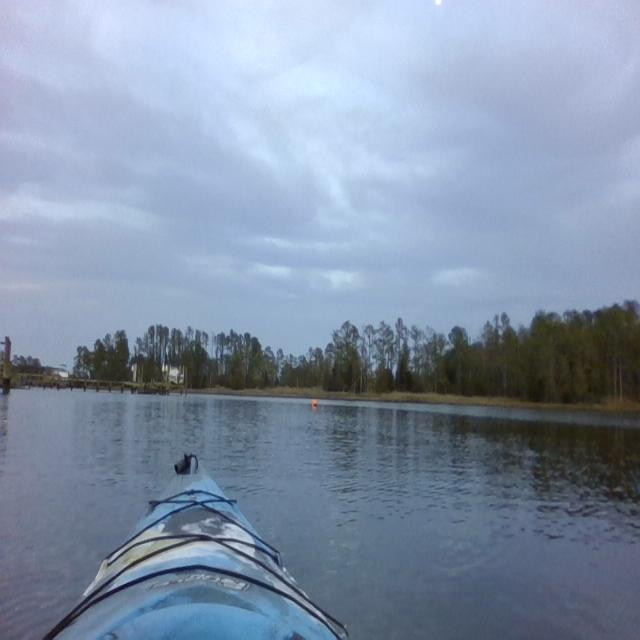Buoy: (311, 395, 319, 409)
